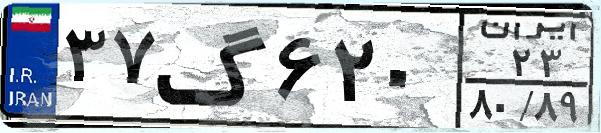0: (385, 28, 445, 110), (495, 70, 520, 125)
2: (330, 28, 385, 110), (508, 27, 537, 80)
3: (57, 26, 110, 100), (537, 27, 568, 80)
6: (270, 28, 330, 110)
7: (110, 28, 156, 98)
8: (470, 70, 495, 125), (535, 70, 560, 125)
9: (560, 70, 590, 125)
گ: (156, 12, 270, 120)
